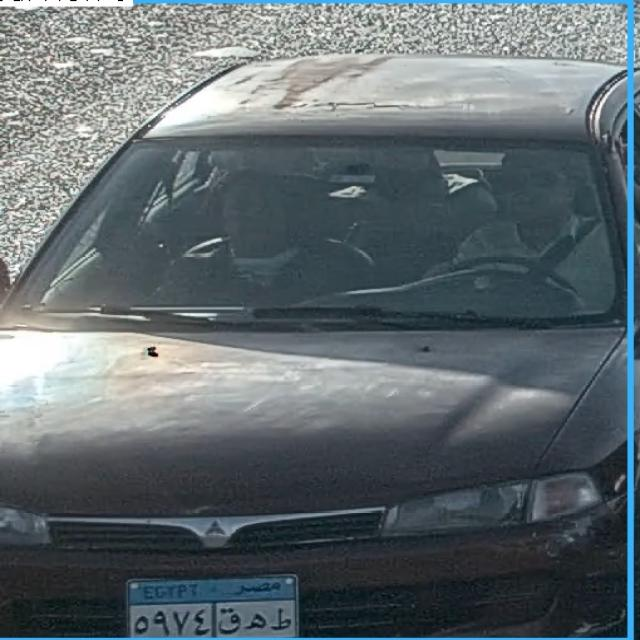windshield: (32, 141, 618, 316)
